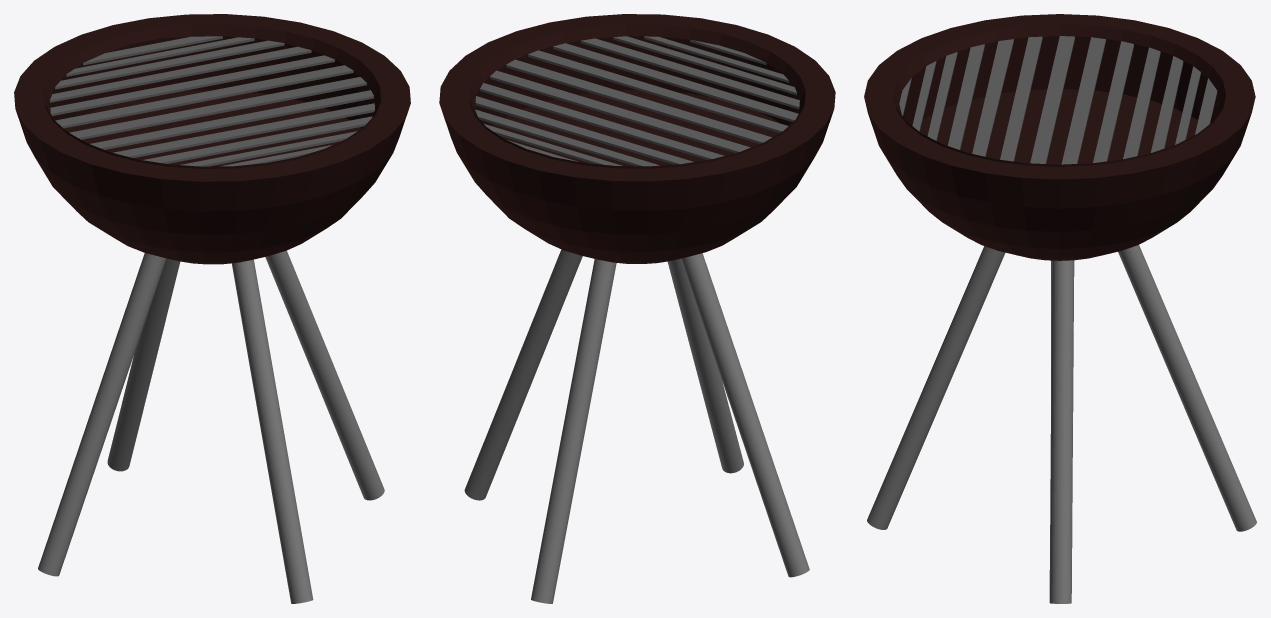
The model's file is BBQ.fbx.
3 renders of one model, left to right at view 1: azimuth 30°, elevation 25°; view 2: azimuth 150°, elevation 25°; view 3: azimuth 270°, elevation 25°, orthographic.
Parts seen in each view (by area): view 1: Sphere, Cylinder.003, Cylinder.001, Cylinder, Cylinder.002; view 2: Sphere, Cylinder.002, Cylinder.001, Cylinder, Cylinder.003; view 3: Sphere, Cylinder, Cylinder.002, Cylinder.003.
Boxes of the visible parts, x1=… form: Sphere: x1=14, y1=14, x2=410, y2=264; Cylinder.003: x1=231, y1=259, x2=313, y2=603; Cylinder.001: x1=38, y1=253, x2=166, y2=576; Cylinder: x1=265, y1=250, x2=384, y2=500; Cylinder.002: x1=107, y1=258, x2=180, y2=471; Sphere: x1=439, y1=14, x2=835, y2=263; Cylinder.002: x1=531, y1=259, x2=616, y2=603; Cylinder.001: x1=681, y1=253, x2=809, y2=577; Cylinder: x1=464, y1=249, x2=582, y2=500; Cylinder.003: x1=667, y1=258, x2=743, y2=473; Sphere: x1=864, y1=14, x2=1255, y2=260; Cylinder: x1=1049, y1=260, x2=1074, y2=603; Cylinder.002: x1=1118, y1=245, x2=1256, y2=531; Cylinder.003: x1=867, y1=246, x2=1005, y2=529.
Bounding box in the file's own units: 98.08 × 120 × 98.4.
